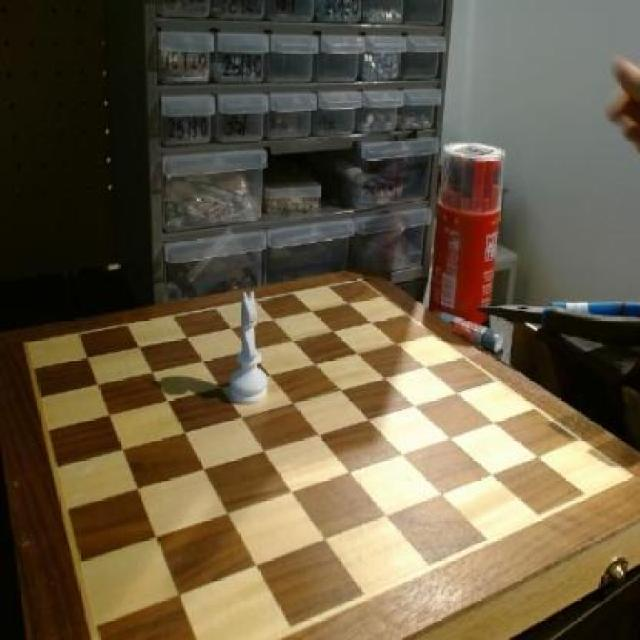white-king: (224, 289, 272, 411)
